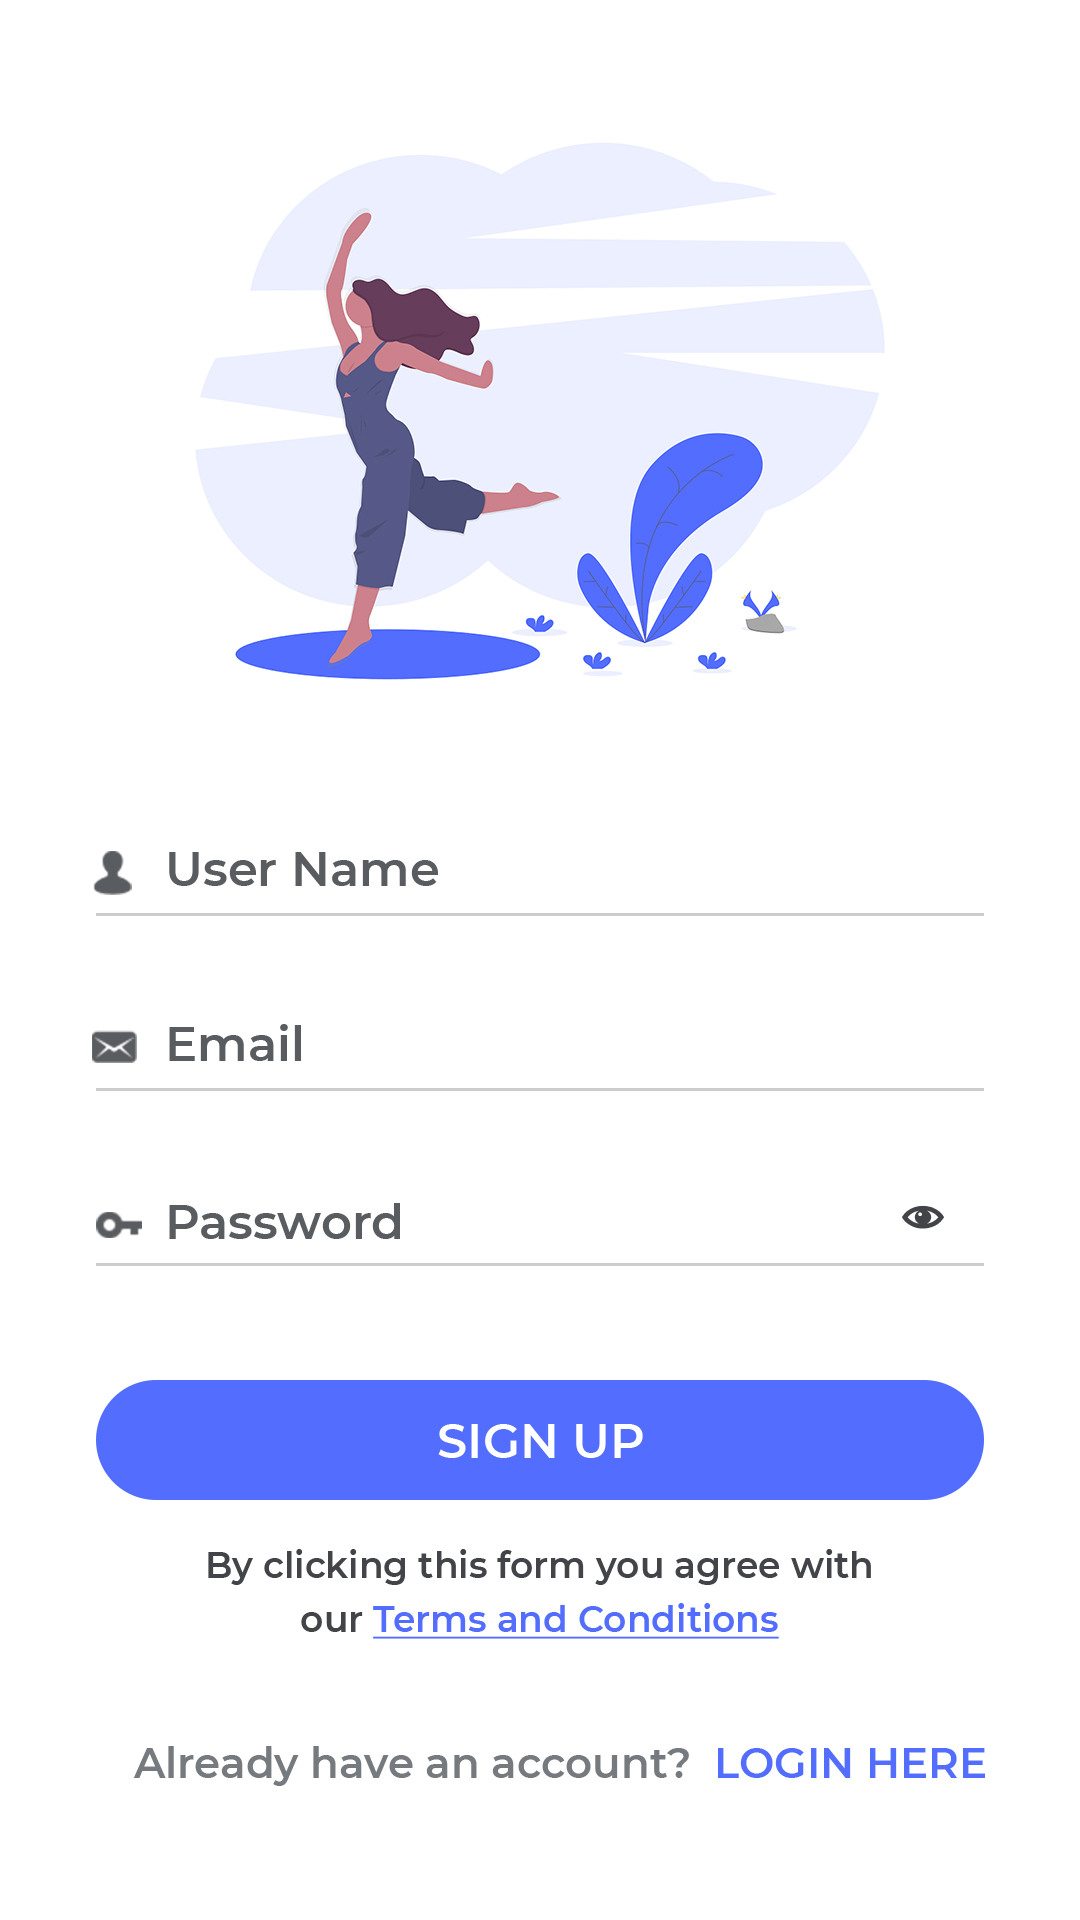EditText: (92, 1023, 985, 1093), (94, 851, 985, 916), (96, 1203, 985, 1267)
Icon: (94, 851, 135, 895), (92, 1031, 138, 1064), (902, 1207, 945, 1230)
Image: (194, 142, 887, 680), (96, 1211, 142, 1240)
Text: (208, 1548, 872, 1640), (135, 1745, 690, 1787), (169, 852, 439, 887), (169, 1203, 402, 1241), (717, 1747, 986, 1779), (169, 1025, 303, 1063)
TextButton: (98, 1379, 985, 1501)
